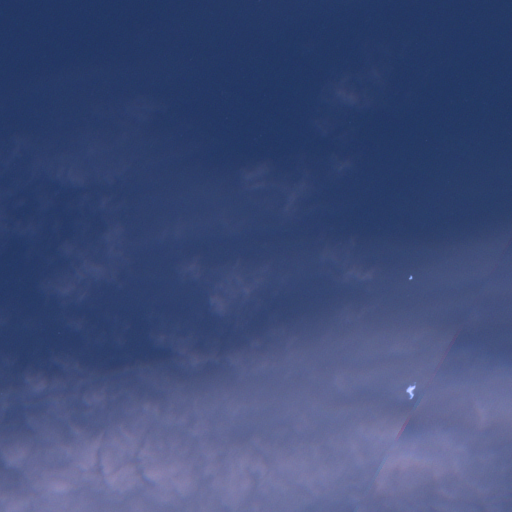Iceberg: (406, 382, 415, 399), (409, 275, 412, 279)
